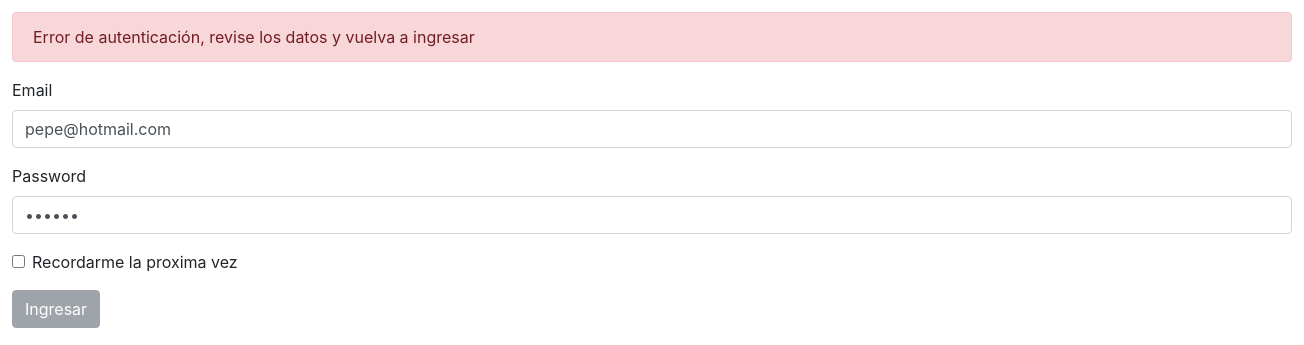
Test: The Login component › should hide error message when authentication fails but user modifies user or password
The image size is (1304, 345).
Type "NuevaPassword" into the password field labelled "Password" at (652, 215), box [12,196,1292,234]
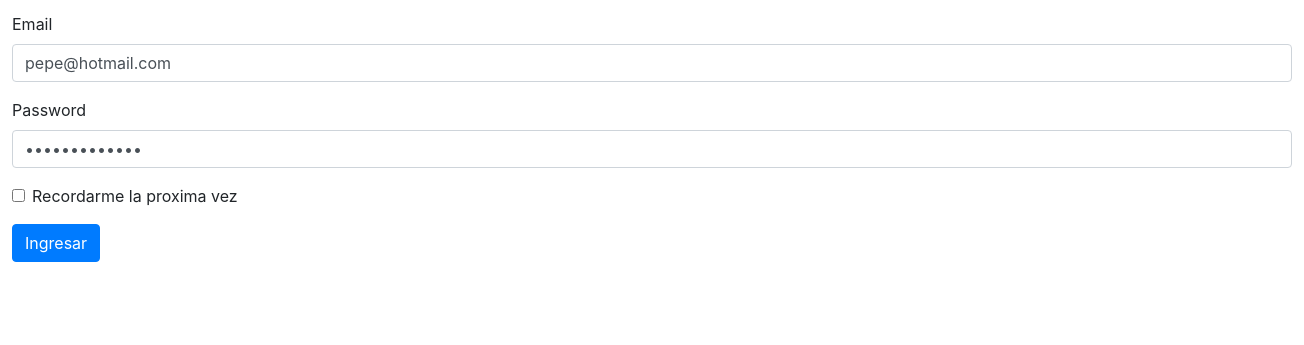
Now the message "Error de autenticación, revise los datos y vuelva a ingresar" is gone
